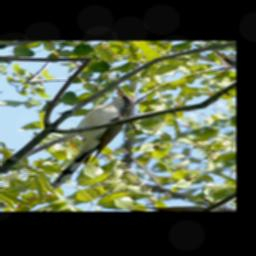Cuckoo: (0, 85, 179, 191)
